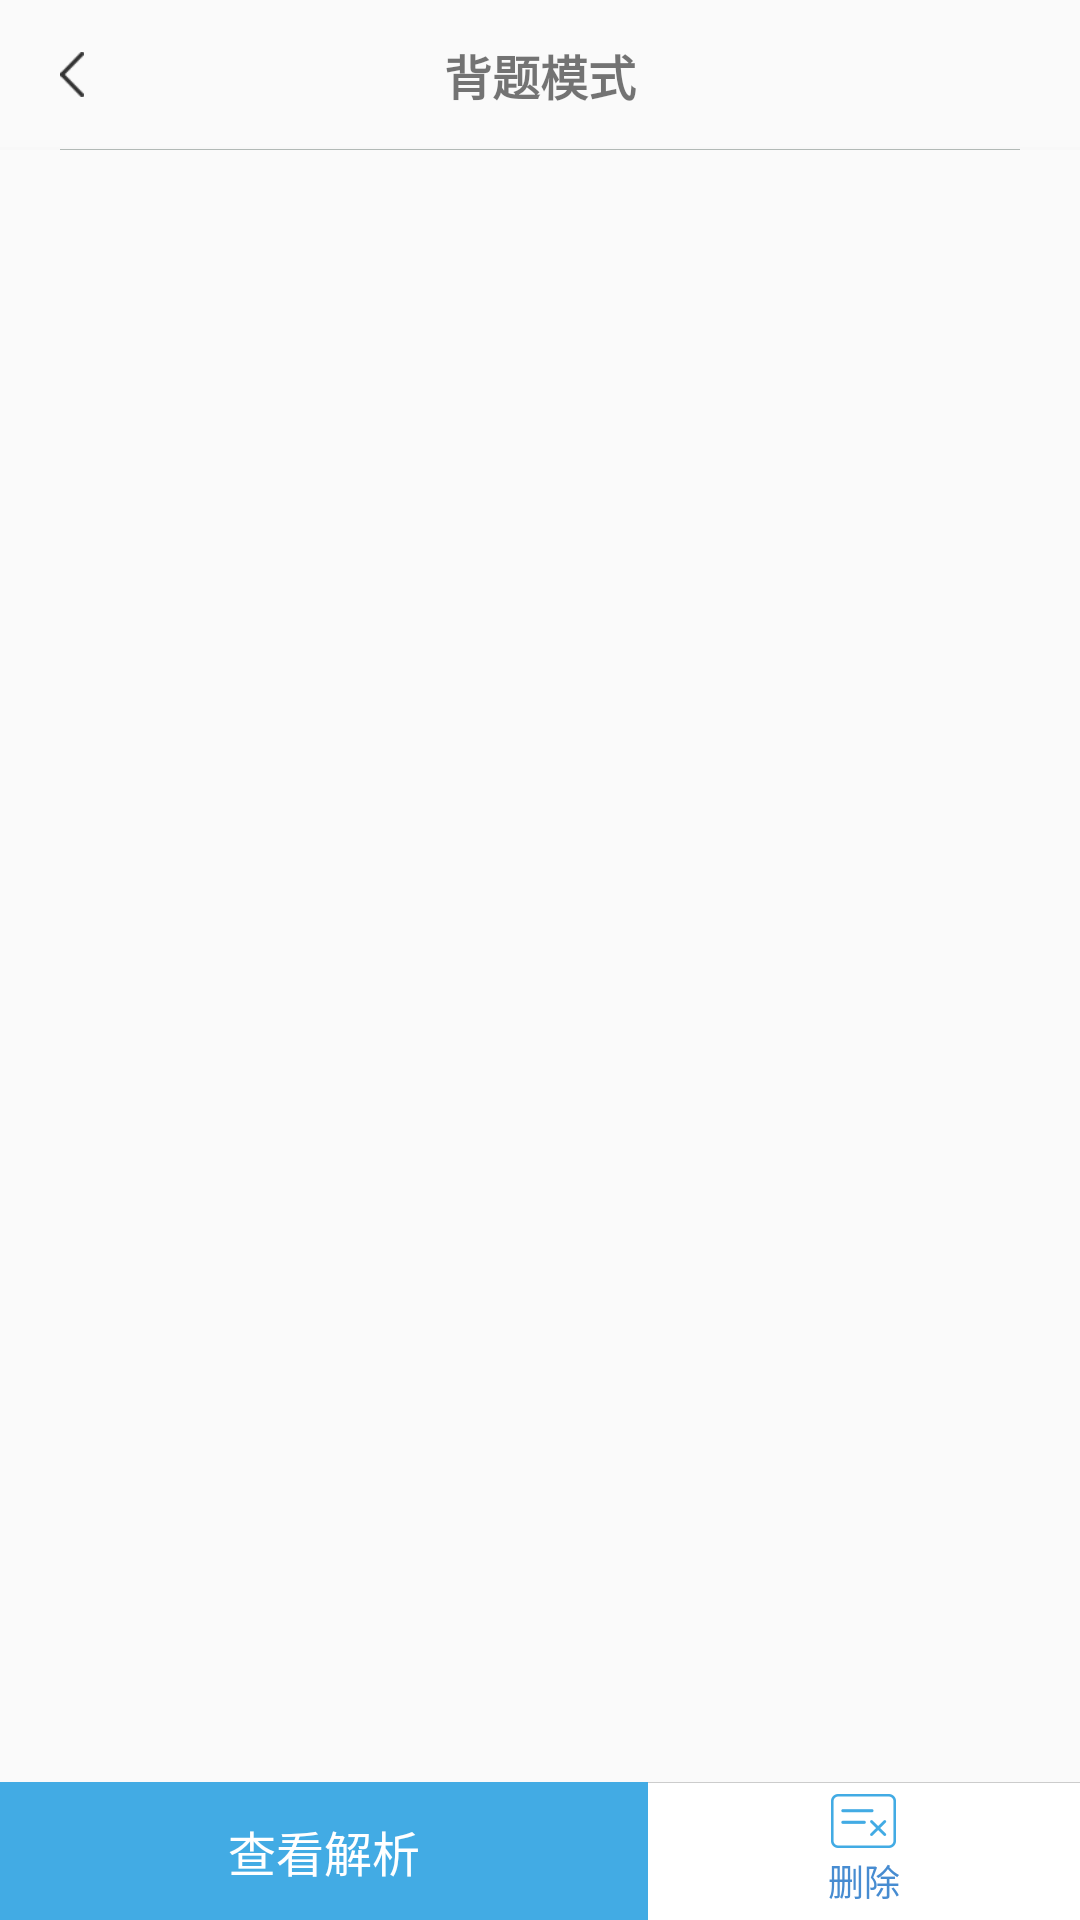

Where to tap for icons on this 1080 × 1920 app screen, as [x,y]:
return: [72,74]
